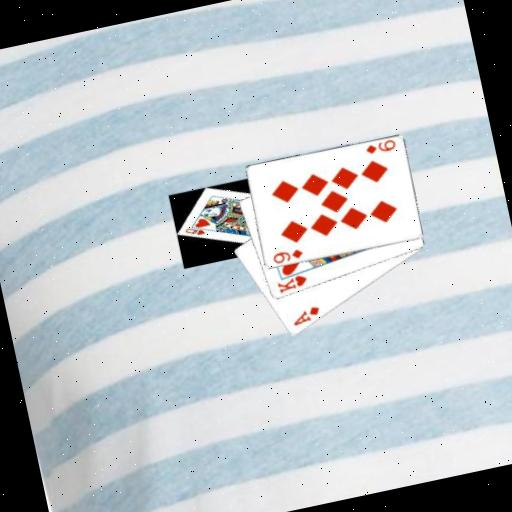9D: (269, 244, 305, 265), (361, 137, 398, 157)
AD: (287, 303, 323, 328)
KH: (273, 270, 310, 295)
